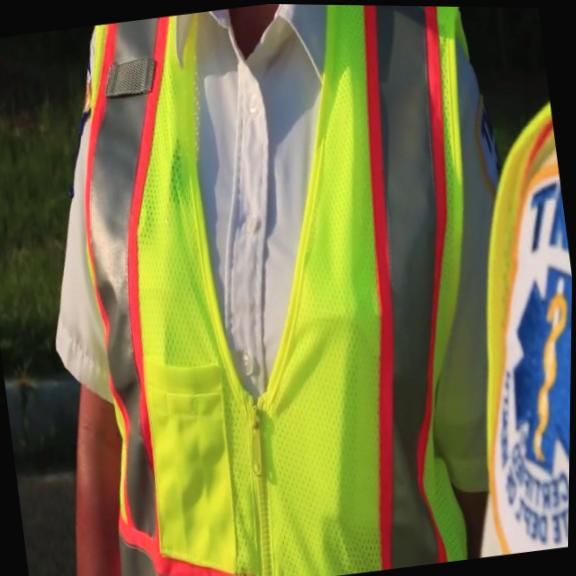safety_vest: (39, 1, 547, 576)
